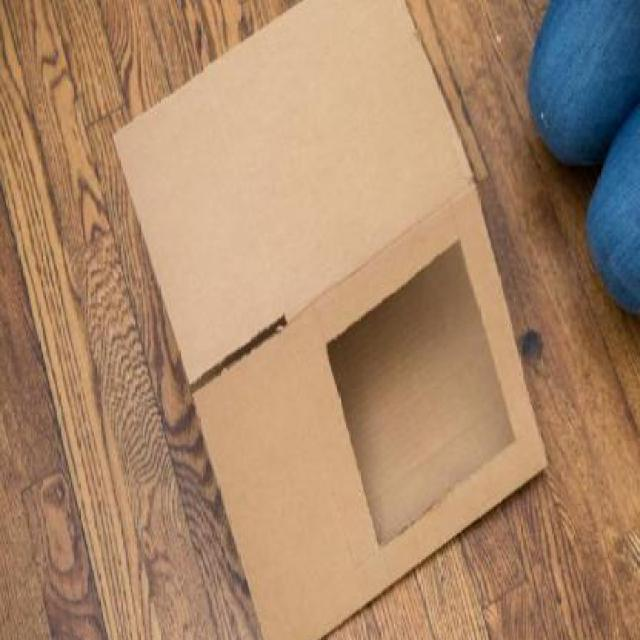box: (104, 0, 556, 640)
